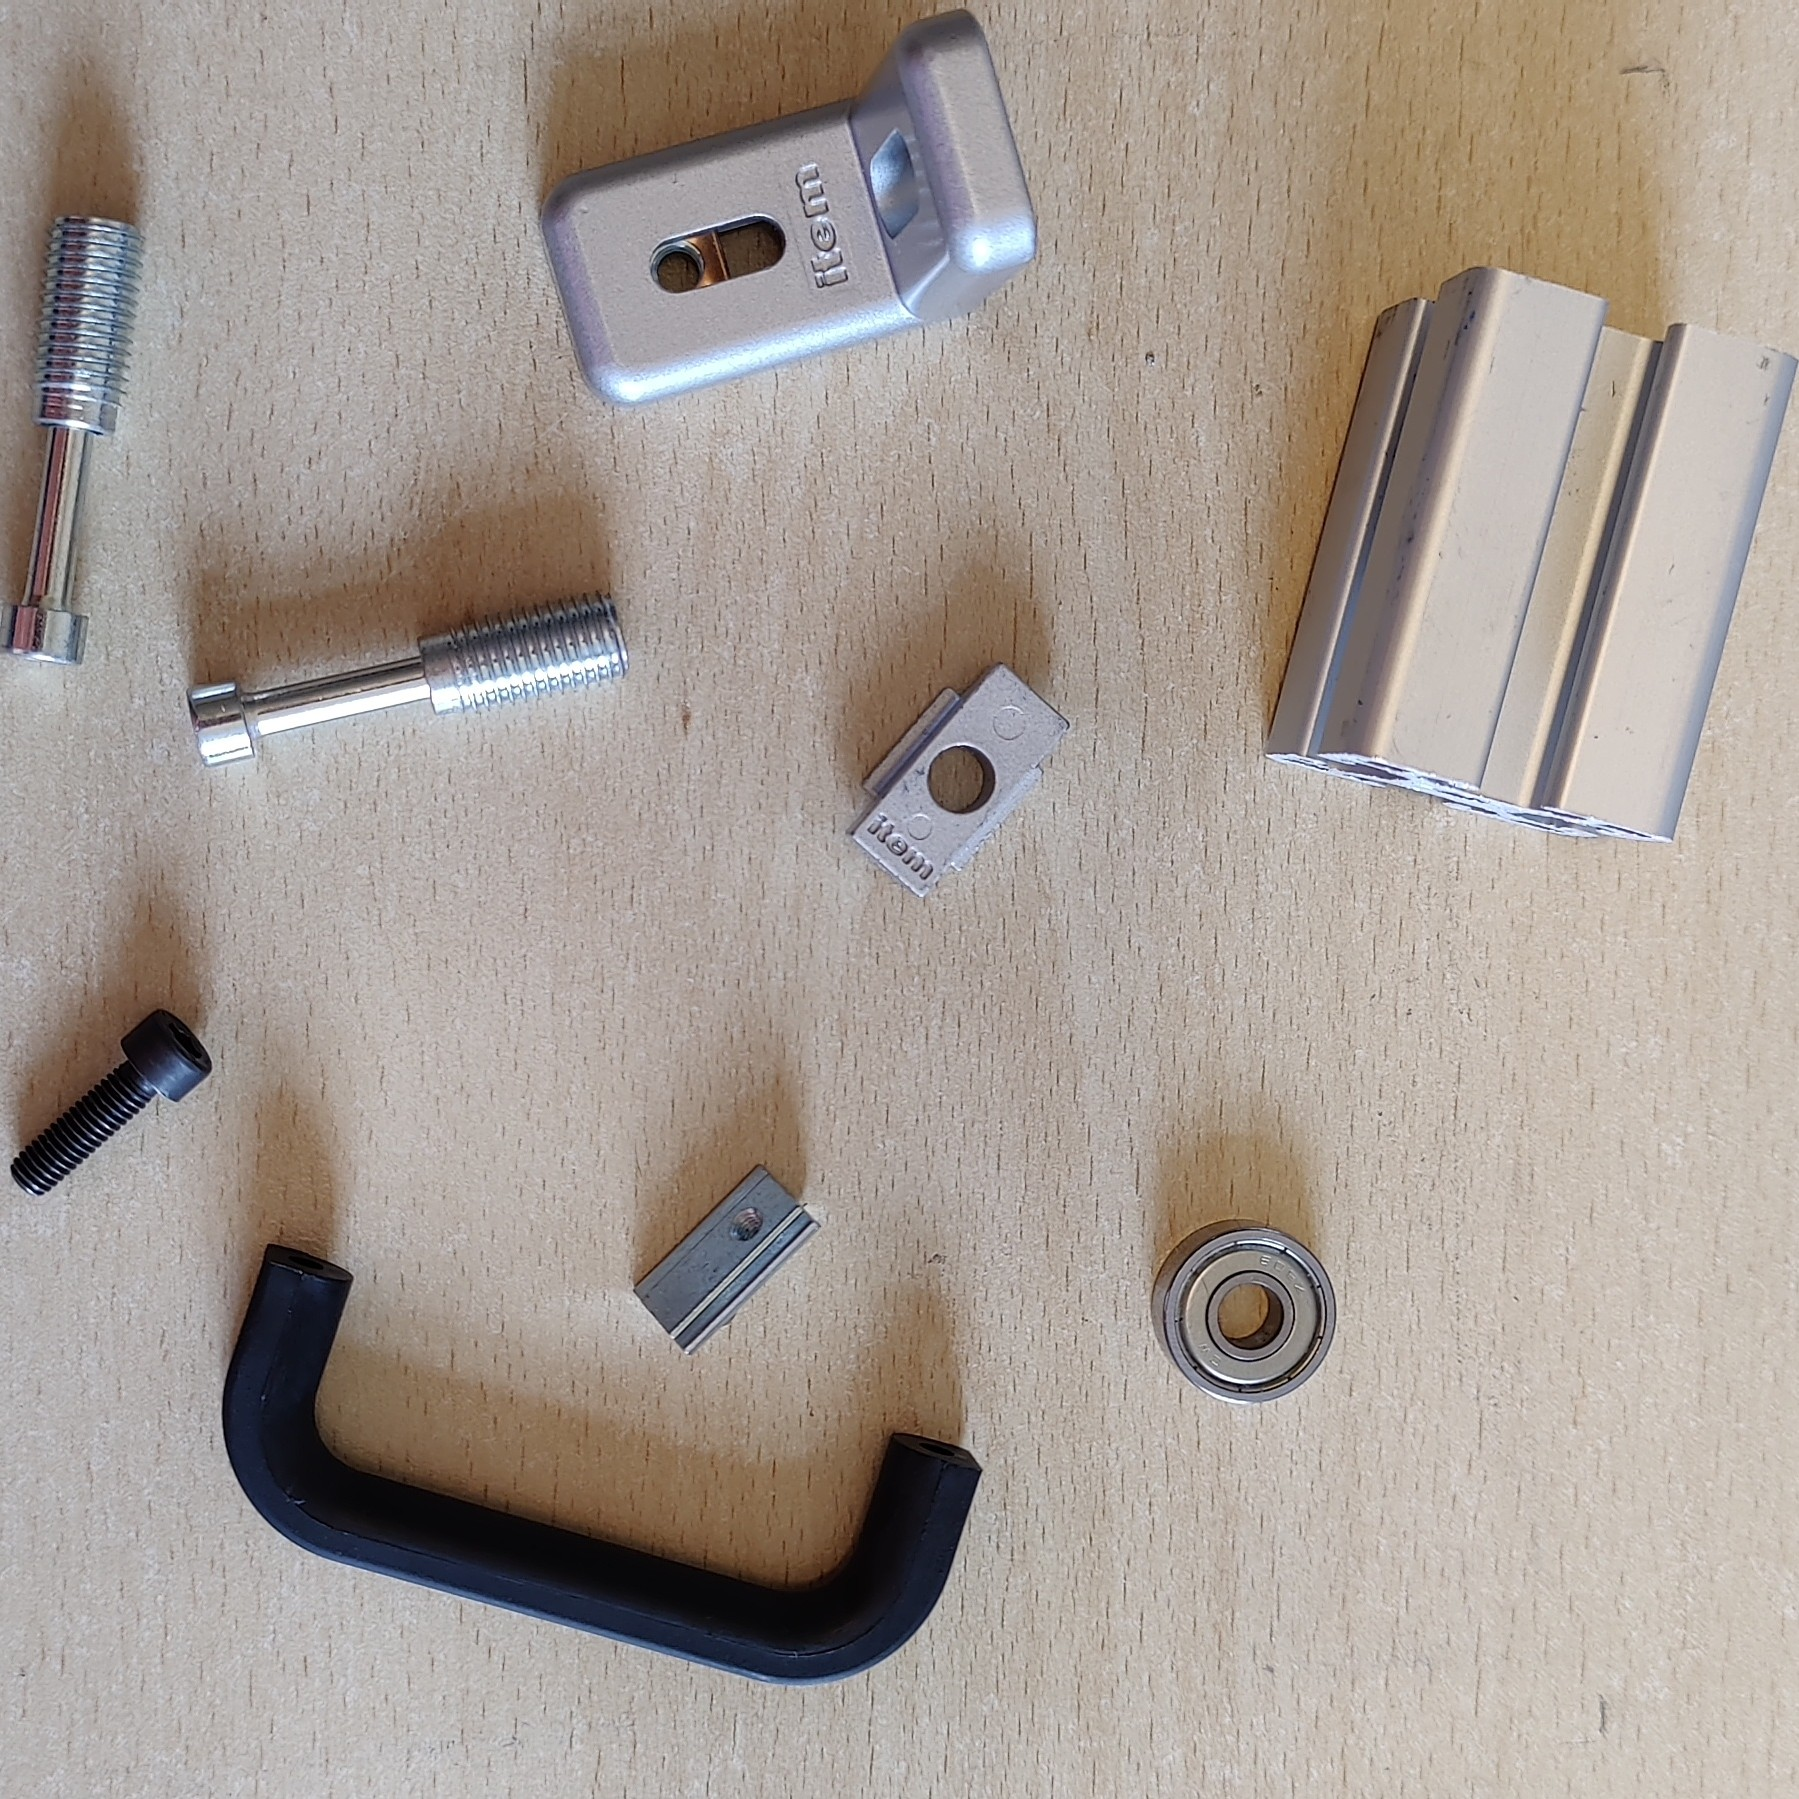Aluminium Extension: (1260, 265, 1799, 848)
Ball Bearing: (1148, 1214, 1338, 1405)
Multiwinkel: (537, 3, 1041, 407)
Pull Handle: (219, 1241, 984, 1690)
Shoulder Socket Head Cap Screw: (181, 583, 634, 773), (2, 208, 152, 669)
Socket Head Cap Screw: (7, 1007, 213, 1199)
T Nut Square: (845, 657, 1072, 903)
T Spring Nut: (628, 1158, 822, 1357)
